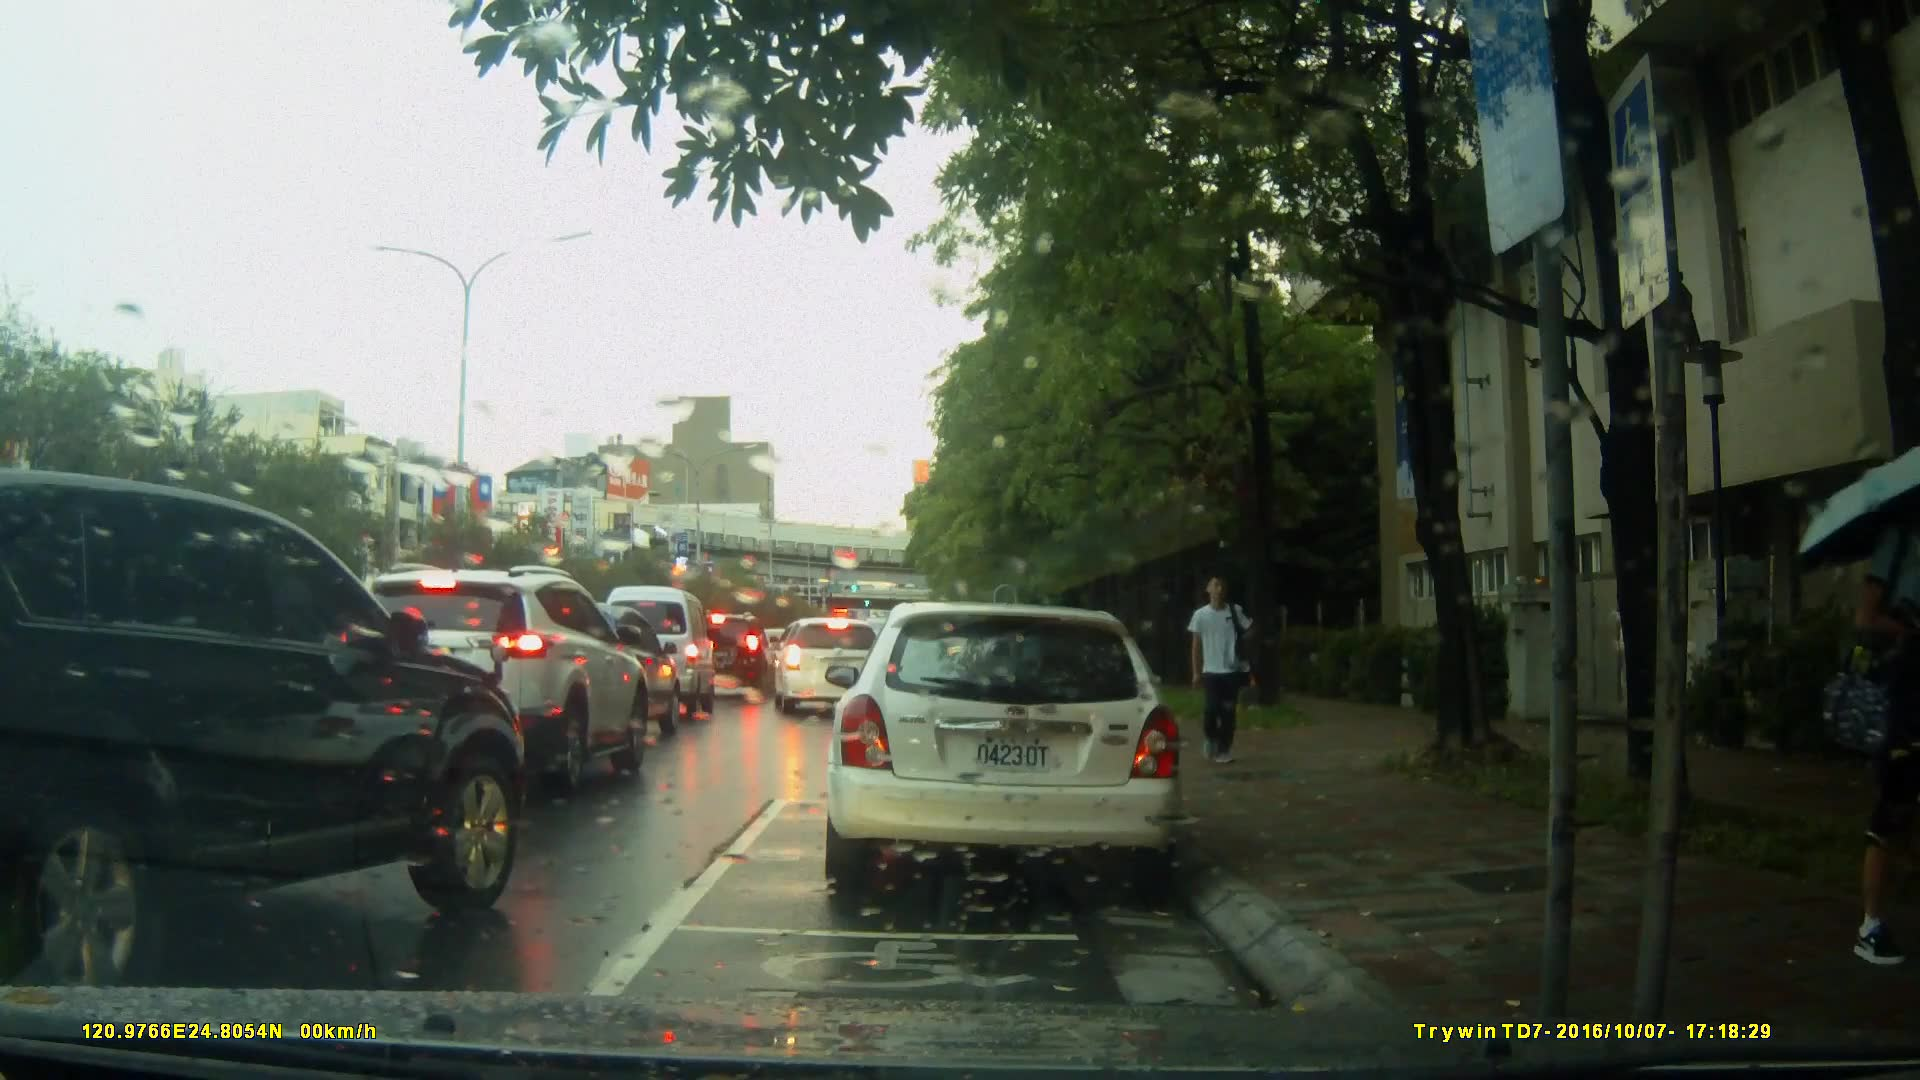pedestrian: (1829, 474, 1909, 969), (1183, 569, 1261, 782)
vehicle: (1, 468, 530, 988), (820, 602, 1188, 898), (334, 563, 658, 791), (525, 604, 688, 739), (596, 584, 721, 722), (772, 617, 892, 716), (685, 612, 771, 696)
